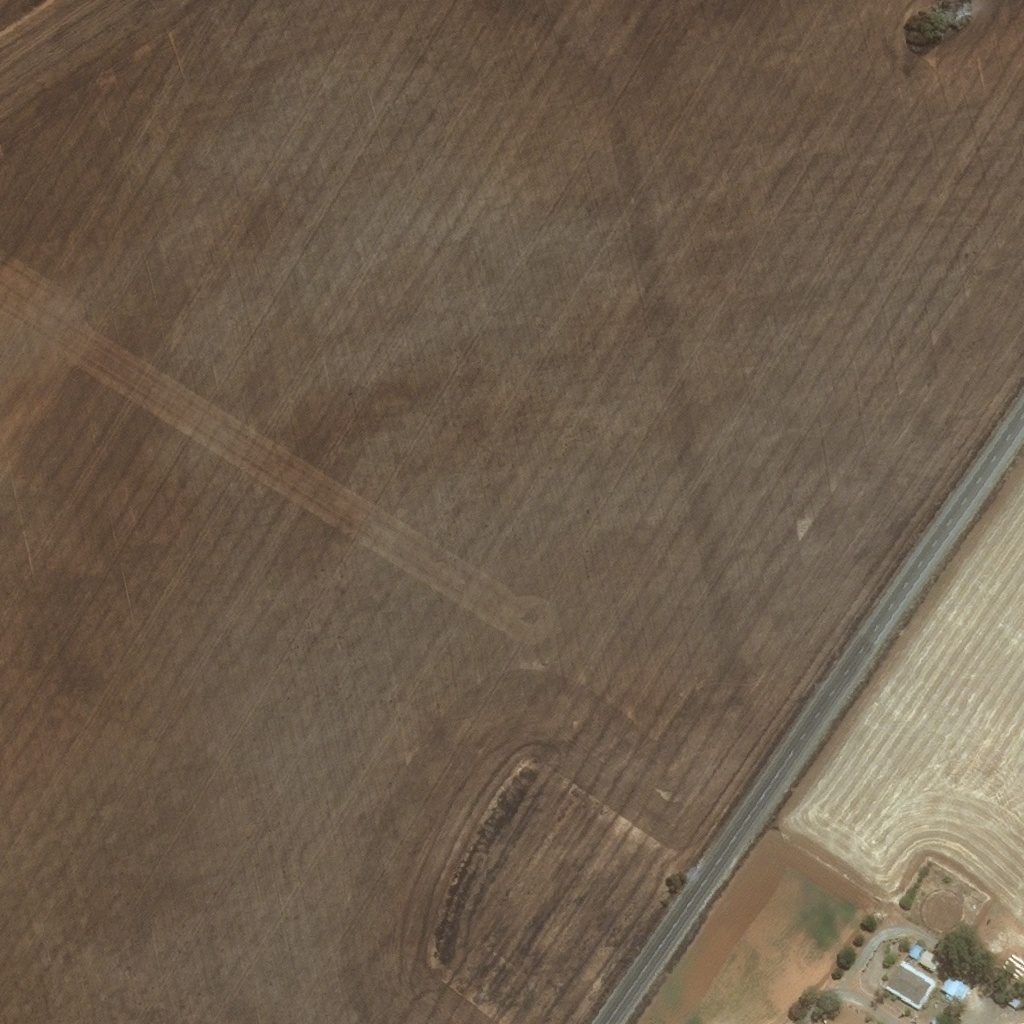0 no-damage: (882, 961, 935, 1011), (916, 951, 943, 976), (939, 975, 965, 997), (905, 944, 923, 961), (1005, 997, 1019, 1010), (943, 996, 952, 1003)
